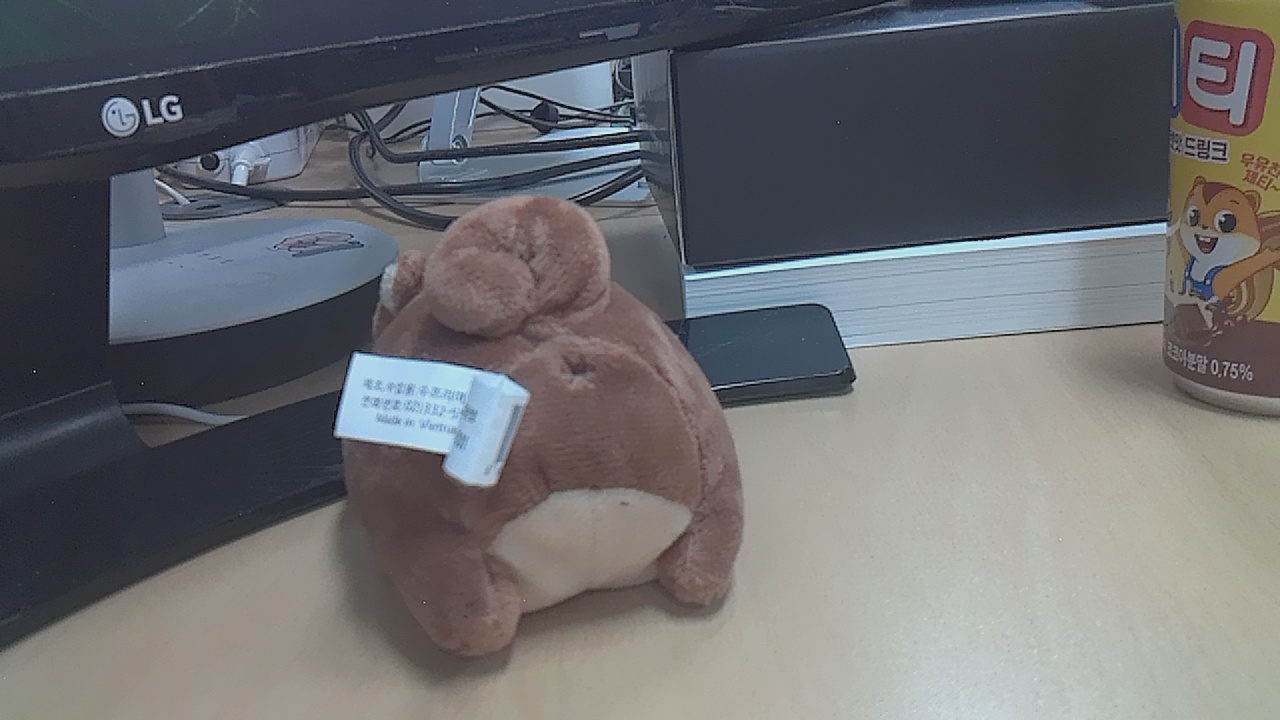cuteDog: (300, 169, 770, 672)
